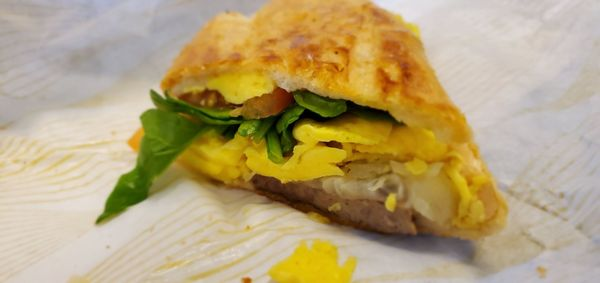soup: (111, 1, 511, 242)
